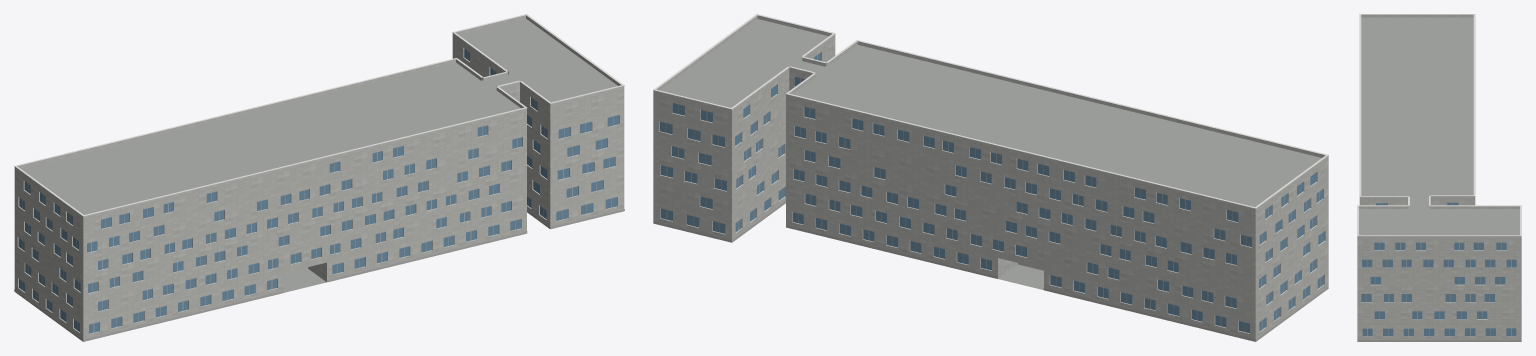
3 views of the same model, side by side, from view 1: azimuth 30°, elevation 25°; view 2: azimuth 150°, elevation 25°; view 3: azimuth 270°, elevation 25° (orthographic). The views are drawn at different scales.
Visible parts, largest first — view 1: engineering2__wall, engineering2__roof, engineering2__glass, engineering2__parapet, engineering2__trim, engineering2__base, engineering2__frame; view 2: engineering2__wall, engineering2__roof, engineering2__glass, engineering2__parapet, engineering2__trim, engineering2__base, engineering2__frame; view 3: engineering2__roof, engineering2__wall, engineering2__glass, engineering2__trim, engineering2__parapet, engineering2__base, engineering2__frame.
Part boxes in pixels (x1,y1,x2,y2): engineering2__wall: (14, 36, 624, 341); engineering2__roof: (21, 18, 617, 292); engineering2__glass: (18, 49, 619, 333); engineering2__parapet: (14, 15, 624, 219); engineering2__trim: (14, 14, 624, 216); engineering2__base: (14, 209, 624, 341); engineering2__frame: (22, 51, 613, 332); engineering2__wall: (653, 37, 1328, 341); engineering2__roof: (660, 19, 1321, 289); engineering2__glass: (660, 52, 1324, 333); engineering2__parapet: (653, 15, 1328, 211); engineering2__trim: (653, 14, 1328, 208); engineering2__base: (653, 201, 1328, 341); engineering2__frame: (666, 55, 1321, 331); engineering2__roof: (1359, 17, 1519, 235); engineering2__wall: (1357, 198, 1521, 339); engineering2__glass: (1361, 202, 1516, 336); engineering2__trim: (1357, 14, 1521, 236); engineering2__parapet: (1357, 14, 1521, 238); engineering2__base: (1357, 340, 1521, 341); engineering2__frame: (1366, 203, 1511, 336).
Bounding box in the file's own units: 99.83 × 22.2 × 31.31.
8 materials, 2 textured.
